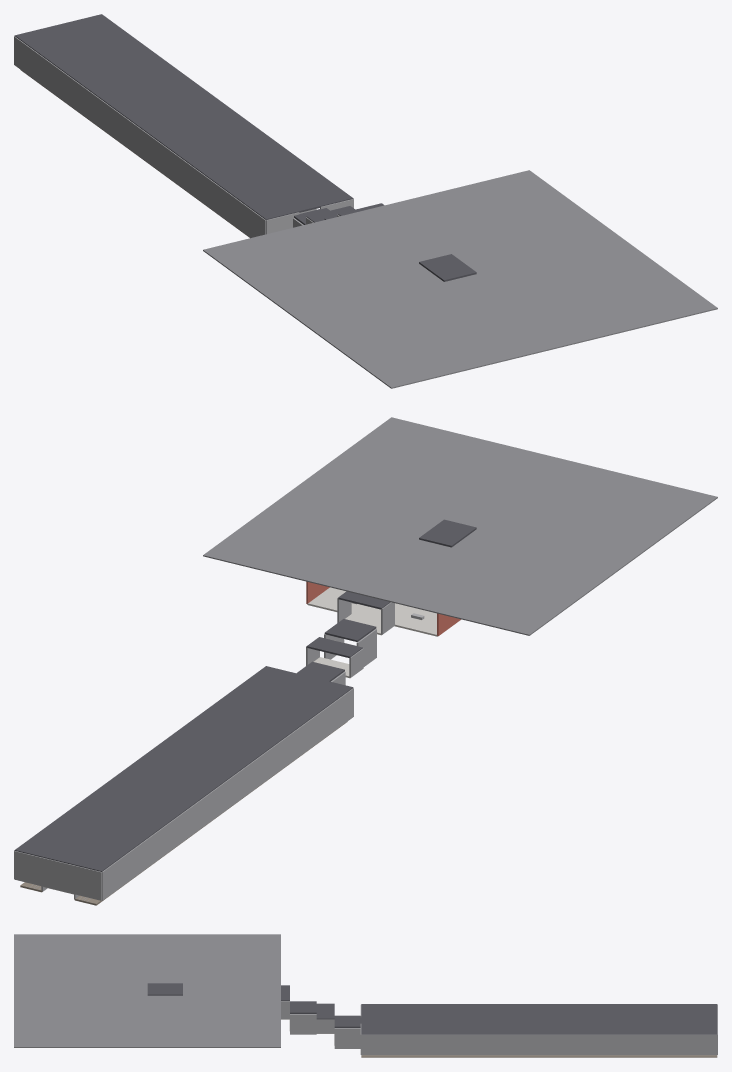
File: plaza_maipu_blockout.glb
The picture shows the model from 3 angles, top to bottom: view 1: azimuth 30°, elevation 25°; view 2: azimuth 150°, elevation 25°; view 3: azimuth 270°, elevation 25°; orthographic projection. The views are drawn at different scales.
Visible parts, largest first — view 1: BLOCK_Plaza_Calle, Tunel_Techo, Tunel_Muro_W, Rampa01_Techo; view 2: BLOCK_Plaza_Calle, Tunel_Techo, Tunel_Muro_W, Tunel_Muro_S, Mezzanine_Piso, Rampa01_Techo; view 3: BLOCK_Plaza_Calle, Tunel_Techo, Tunel_Muro_E, Foso_Via_E_Piso, Rampa02_Muro_E, Rampa03_Muro_E, Rampa01_Techo, Rampa03_Techo, Rampa02_Techo, Descanso_Techo, Descanso_Muro_E.
Boxes of the visible parts, box(x1,y1,x2,y2) form: BLOCK_Plaza_Calle: box(203, 170, 717, 388); Tunel_Techo: box(14, 14, 353, 219); Tunel_Muro_W: box(14, 36, 265, 237); Rampa01_Techo: box(419, 254, 476, 281); BLOCK_Plaza_Calle: box(203, 417, 717, 635); Tunel_Techo: box(14, 666, 353, 871); Tunel_Muro_W: box(102, 688, 353, 900); Tunel_Muro_S: box(14, 851, 101, 900); Mezzanine_Piso: box(307, 587, 438, 636); Rampa01_Techo: box(419, 519, 476, 547); BLOCK_Plaza_Calle: box(14, 934, 280, 1047); Tunel_Techo: box(361, 1004, 717, 1034); Tunel_Muro_E: box(361, 1034, 717, 1055); Foso_Via_E_Piso: box(361, 1055, 717, 1057); Rampa02_Muro_E: box(290, 1014, 316, 1034); Rampa03_Muro_E: box(334, 1028, 360, 1048); Rampa01_Techo: box(147, 983, 182, 995); Rampa03_Techo: box(334, 1015, 361, 1027); Rampa02_Techo: box(290, 1001, 316, 1013); Descanso_Techo: box(316, 1003, 334, 1019); Descanso_Muro_E: box(316, 1019, 334, 1033).
Bounding box in the file's own units: 60 × 13.8 × 158.
